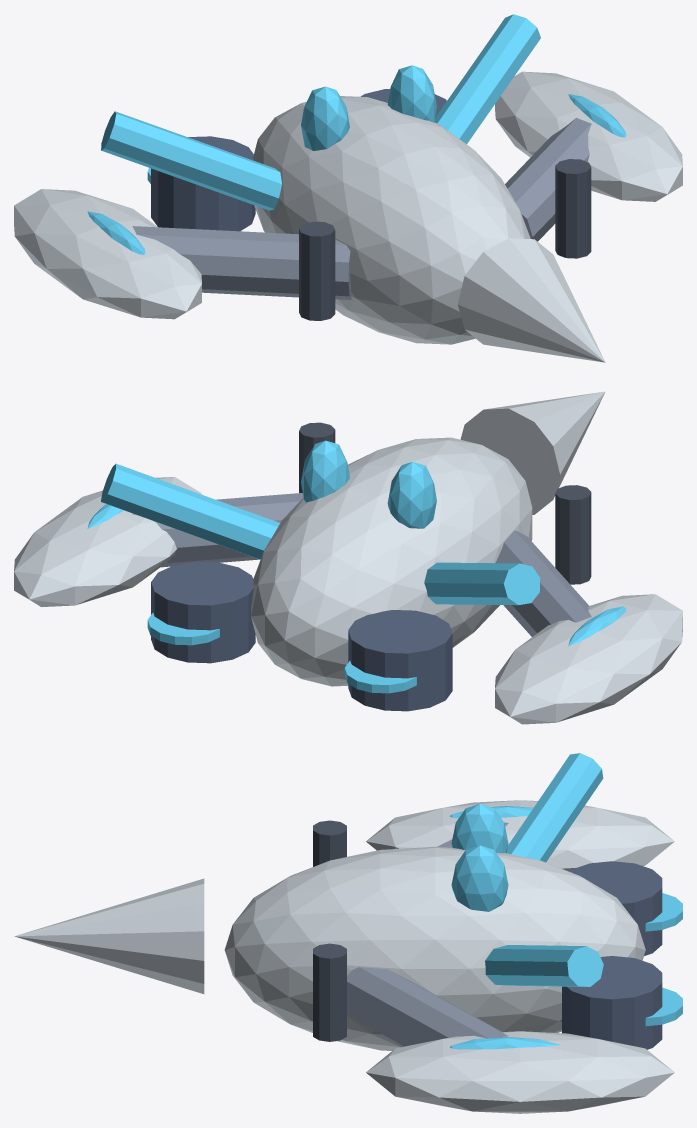
File: npc_bossSaimon.glb
The picture shows the model from 3 angles, top to bottom: view 1: azimuth 30°, elevation 25°; view 2: azimuth 150°, elevation 25°; view 3: azimuth 270°, elevation 25°; orthographic projection.
Parts seen in each view (by area): view 1: hull, wing_armor_-1, wing_armor_1, forward_stinger, wingframe_-1, boss_blade_-1, boss_blade_1, engine_-1, wingframe_1, weapon_1, weapon_-1, boss_emitter_-1 (+3 smaller); view 2: hull, wing_armor_-1, wing_armor_1, engine_-1, engine_1, forward_stinger, boss_blade_1, boss_blade_-1, wingframe_-1, weapon_-1, wingframe_1, boss_emitter_-1 (+5 smaller); view 3: hull, wing_armor_1, forward_stinger, wing_armor_-1, engine_1, wingframe_1, boss_blade_-1, boss_blade_1, engine_-1, weapon_1, boss_emitter_1, boss_emitter_-1 (+4 smaller).
Part boxes in pixels (<box>): hull: <box>253,96,530,344</box>; wing_armor_-1: <box>14,189,201,319</box>; wing_armor_1: <box>495,71,682,201</box>; forward_stinger: <box>457,238,605,362</box>; wingframe_-1: <box>132,226,351,299</box>; boss_blade_-1: <box>101,111,281,210</box>; boss_blade_1: <box>434,14,540,144</box>; engine_-1: <box>151,136,255,231</box>; wingframe_1: <box>505,118,591,241</box>; weapon_1: <box>555,159,591,258</box>; weapon_-1: <box>299,221,335,320</box>; boss_emitter_-1: <box>301,86,349,150</box>; hull: <box>251,437,532,686</box>; wing_armor_-1: <box>495,594,682,724</box>; wing_armor_1: <box>14,477,201,606</box>; engine_-1: <box>348,610,452,711</box>; engine_1: <box>151,561,255,663</box>; forward_stinger: <box>460,391,604,514</box>; boss_blade_1: <box>101,463,280,559</box>; boss_blade_-1: <box>424,562,540,605</box>; wingframe_-1: <box>495,530,591,636</box>; weapon_-1: <box>555,485,591,584</box>; wingframe_1: <box>132,493,303,567</box>; boss_emitter_-1: <box>387,461,436,528</box>; hull: <box>224,846,645,1050</box>; wing_armor_1: <box>366,1031,674,1113</box>; forward_stinger: <box>14,878,204,993</box>; wing_armor_-1: <box>366,800,674,871</box>; engine_1: <box>562,956,662,1049</box>; wingframe_1: <box>347,967,508,1046</box>; boss_blade_-1: <box>506,753,603,862</box>; boss_blade_1: <box>485,945,603,986</box>; engine_-1: <box>569,861,662,955</box>; weapon_1: <box>313,943,346,1041</box>; boss_emitter_1: <box>451,845,508,911</box>; boss_emitter_-1: <box>451,804,508,853</box>.
Size of the model in its own units: 3.61 by 1.27 by 3.52.
